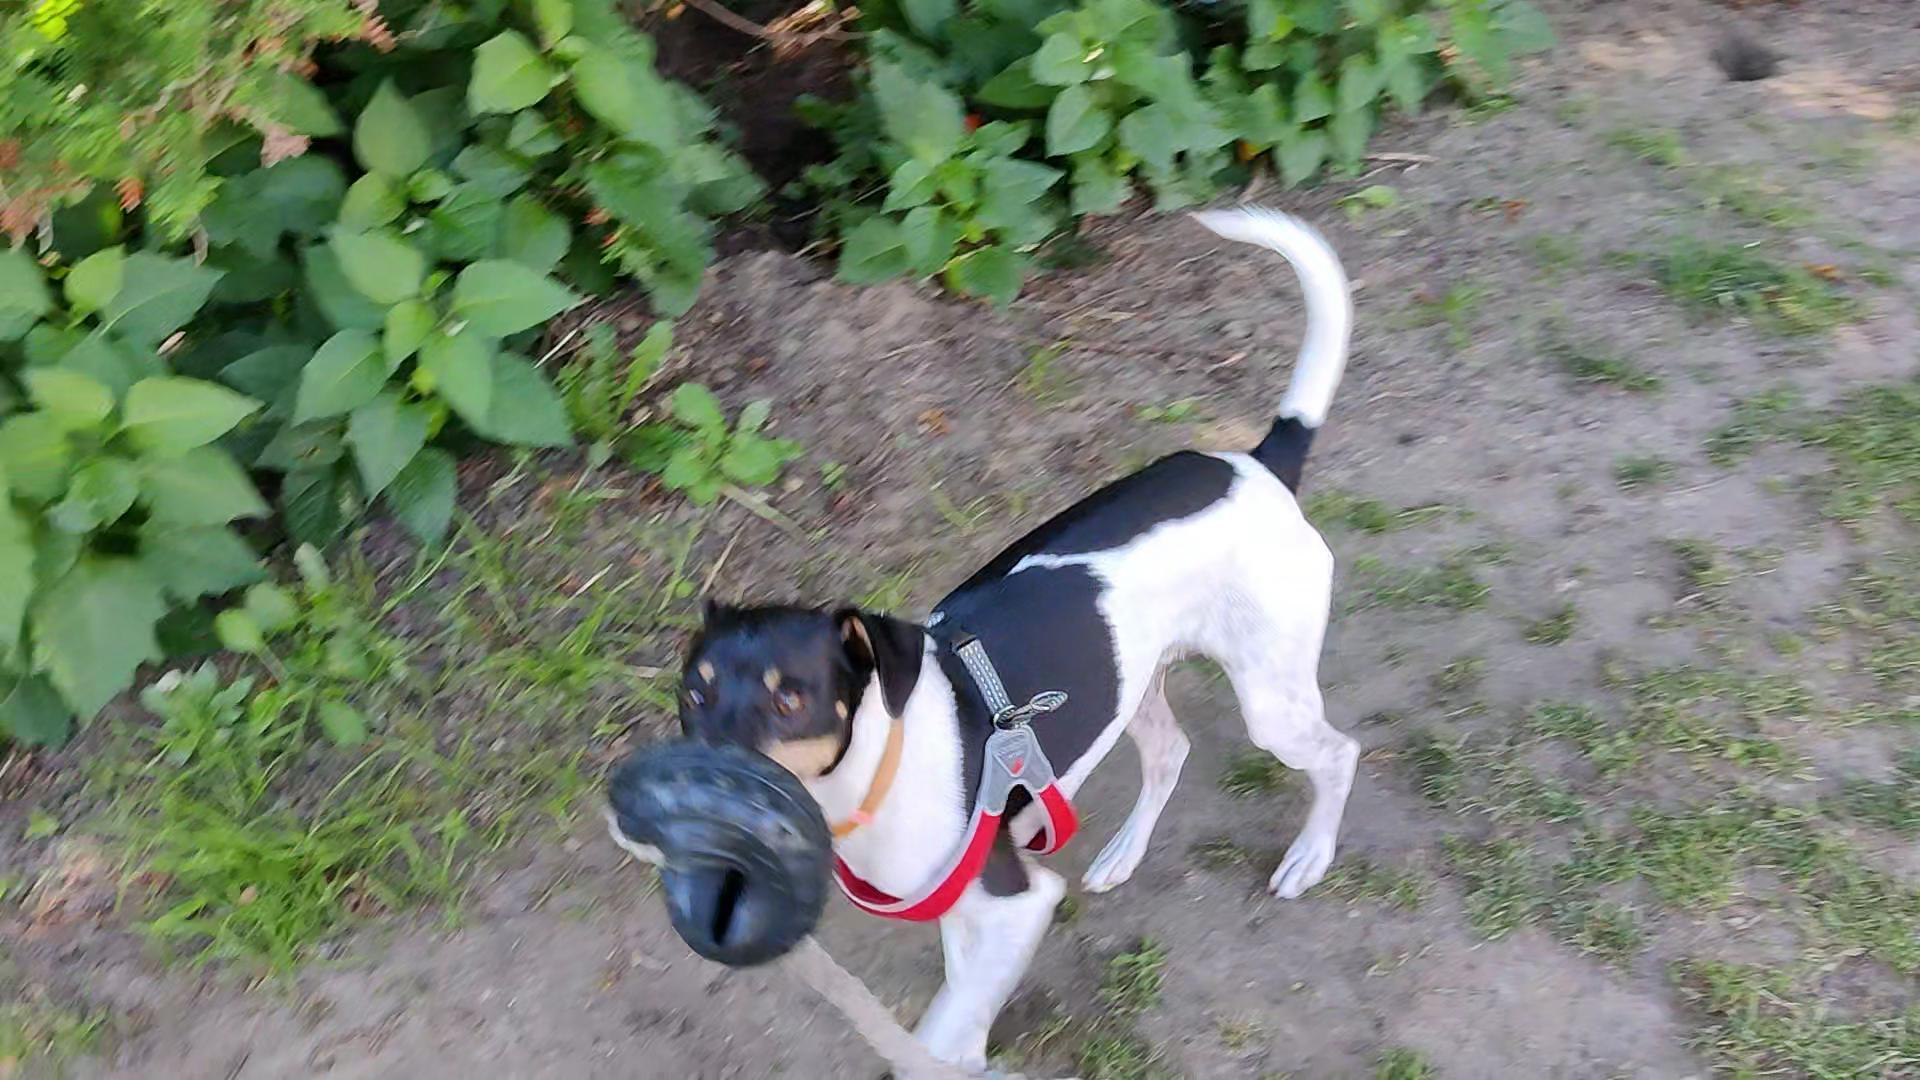Dog: (654, 196, 1378, 1079)
